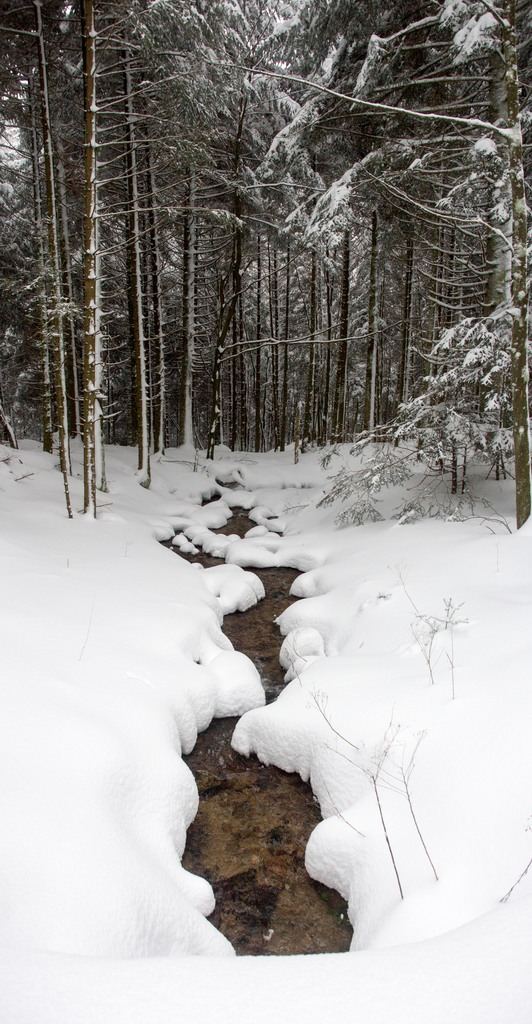Tree: (0, 0, 517, 525)
